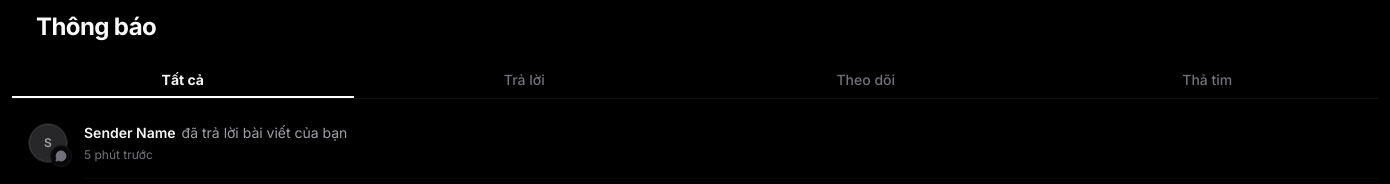
real mode › tabs › a tab loads its own server-filtered list, with its own paging & empty state
Expected: the text "đã trả lời bài viết của bạn" is shown, 182,124 -> 347,141
Click the tab "Thả tim".
click(1207, 81)  # box 1036,64 -> 1378,98
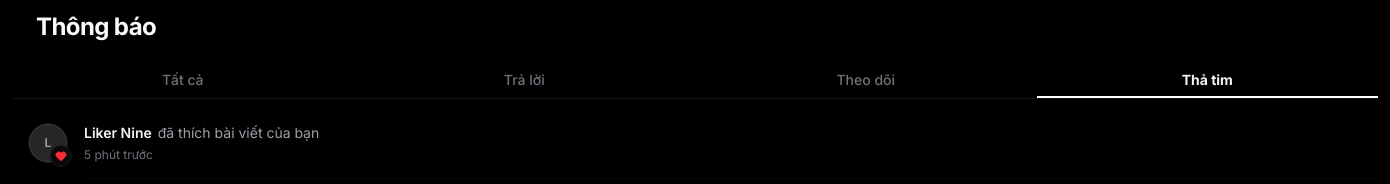
Now the text "Liker Nine" is shown, box 84,124 -> 152,141
Now the link "đã trả lời bài viết của bạn" is gone
